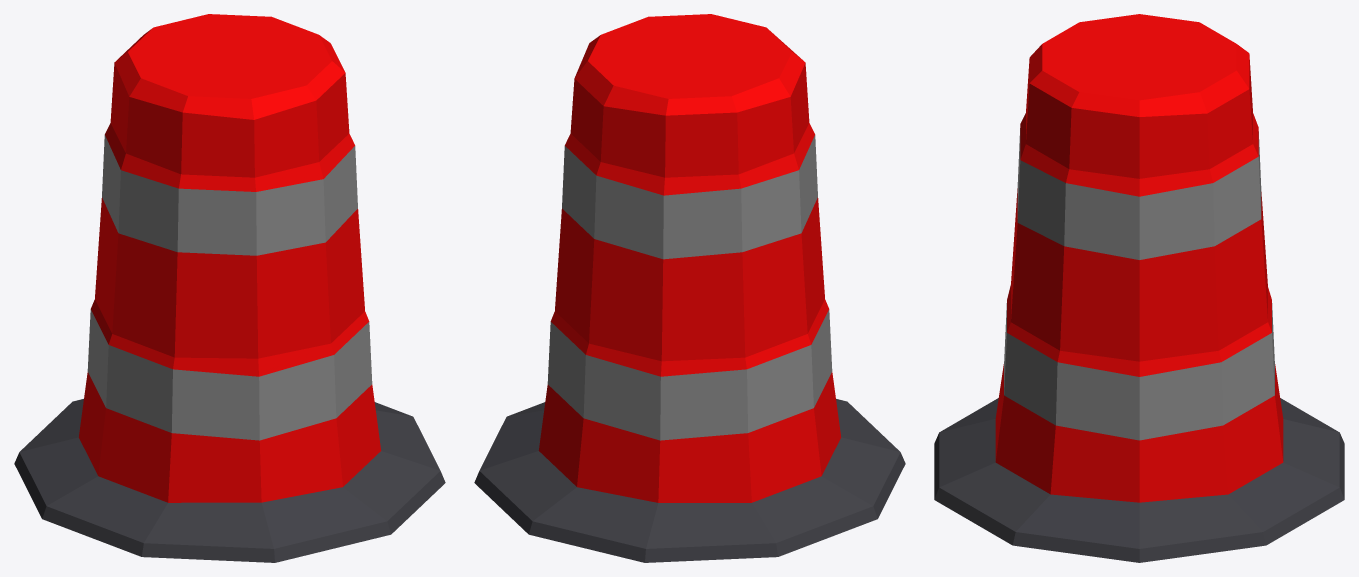
File: Obstacle.fbx
3 views of the same model, side by side, from view 1: azimuth 30°, elevation 25°; view 2: azimuth 150°, elevation 25°; view 3: azimuth 270°, elevation 25° (orthographic).
Visible parts, largest first — view 1: SM_Prop_Cone_02; view 2: SM_Prop_Cone_02; view 3: SM_Prop_Cone_02.
Boxes of the visible parts, left/top/right/bottom form: SM_Prop_Cone_02: left=14, top=14, right=445, bottom=562; SM_Prop_Cone_02: left=474, top=14, right=905, bottom=562; SM_Prop_Cone_02: left=934, top=14, right=1344, bottom=562.
Size of the model in its own units: 199 by 211 by 190.
